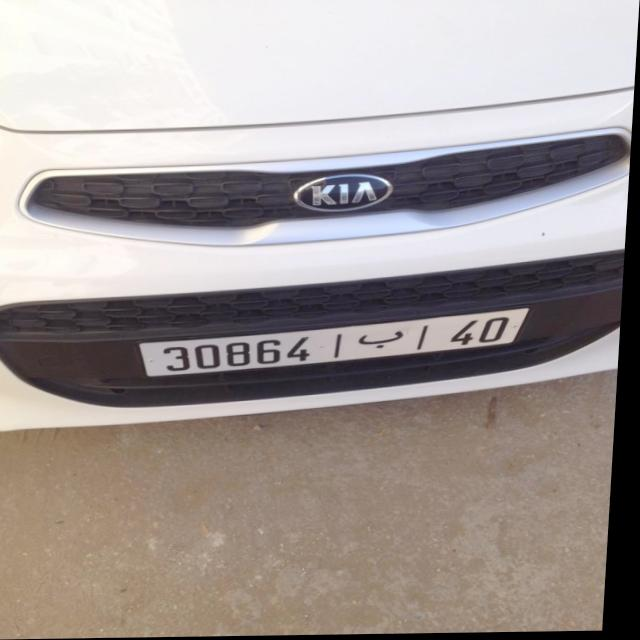License-Plate: (144, 310, 532, 377)
